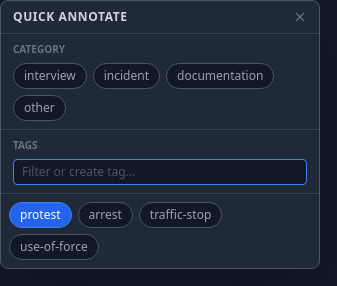
Test: QuickTagMenu › filter input narrows visible tags
This screenshot has width=337, height=286.
Check: the button "protest" is shown, box [9,202,72,228]
In the field with placeholder "Filter or create tag...": (160, 172) [13,159,307,185], type "arr"
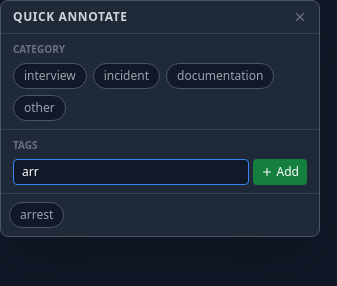
Check: the button "arrest" is shown, box [9,202,64,228]
Check: the button "protest" is gone
Check: the button "traffic-stop" is gone
